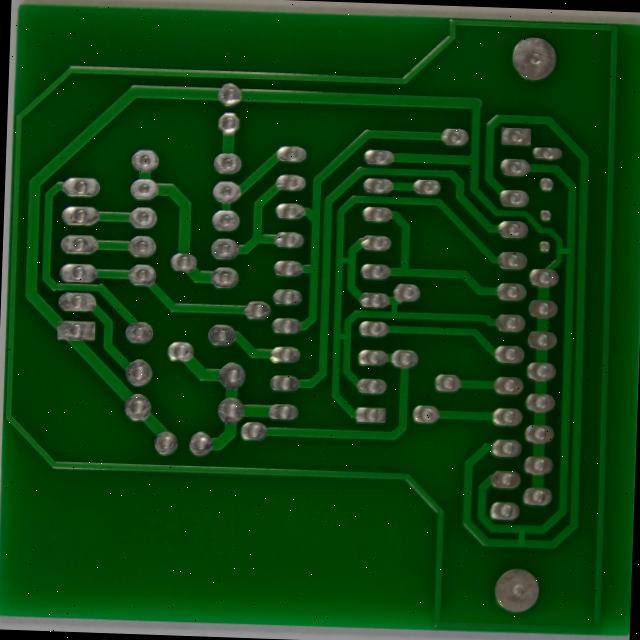short: (561, 572, 582, 605), (420, 324, 445, 351), (607, 262, 633, 286), (360, 357, 387, 379), (366, 274, 392, 295)
